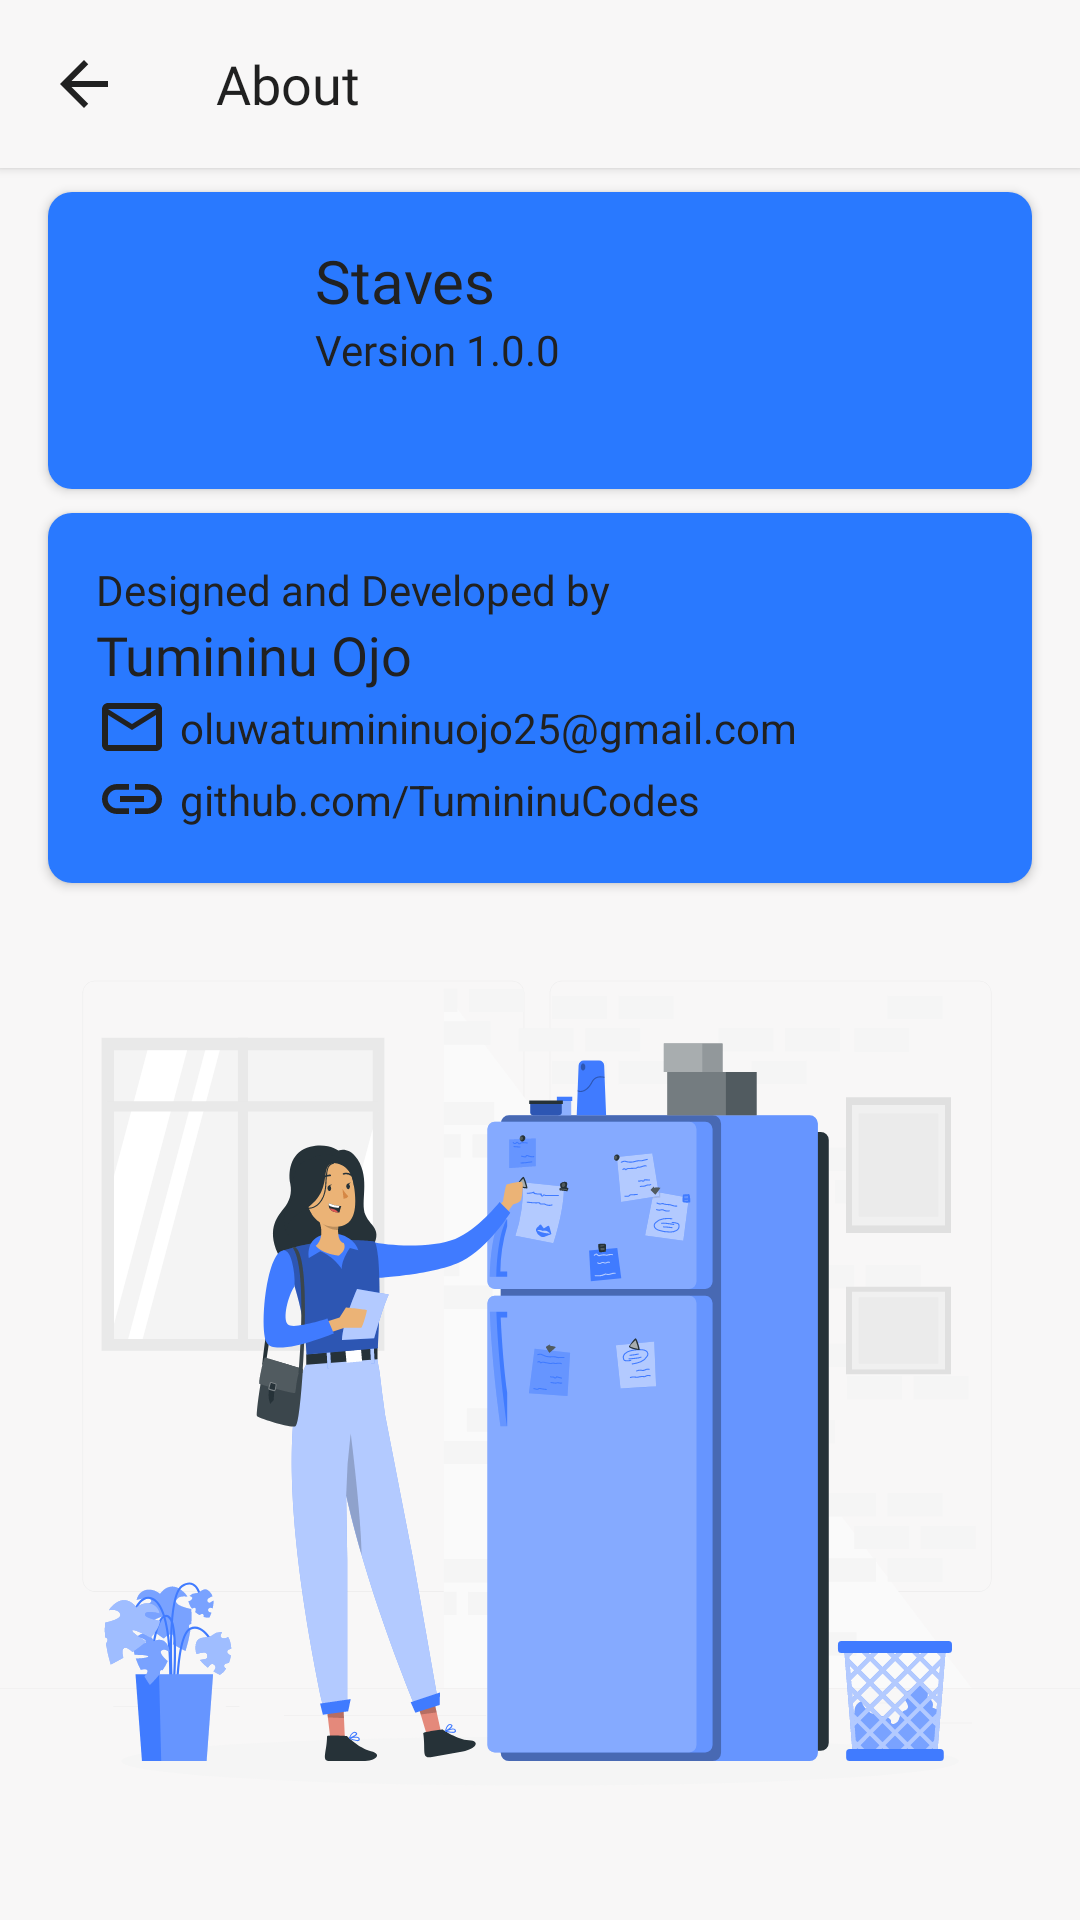

Screen size 1080*1920. Icon name, then its box in pixels as (x1, y1, x2, y2):
link: (102, 784, 162, 814)
